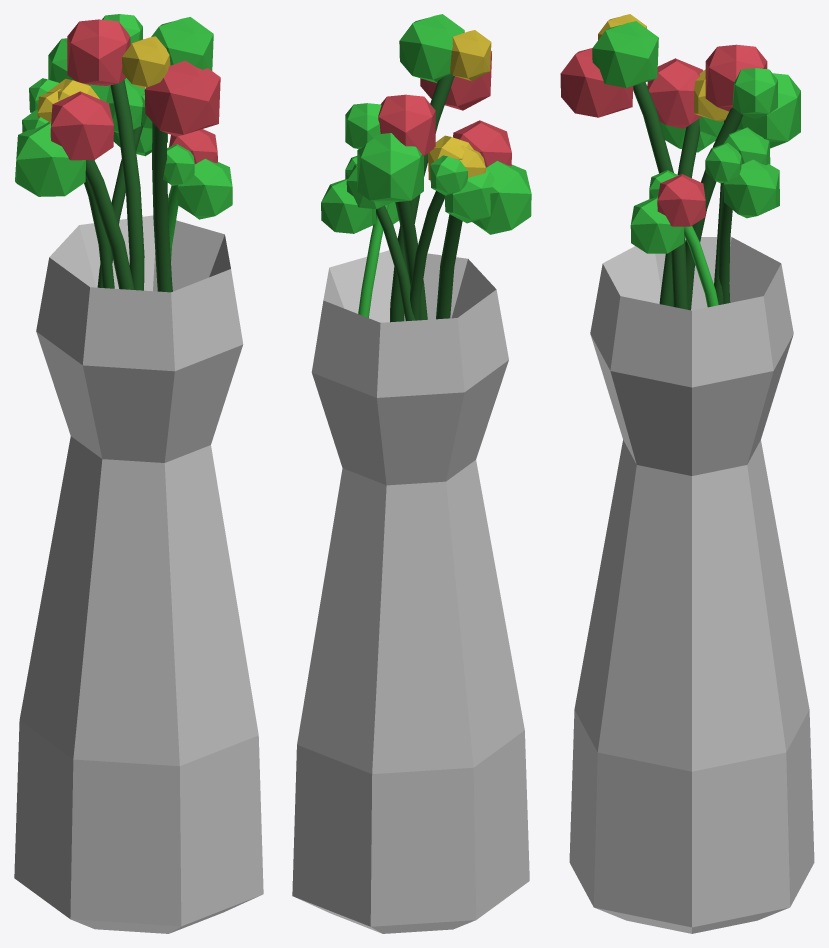
Rendered from Flower.fbx.
3 renders of one model, left to right at view 1: azimuth 30°, elevation 25°; view 2: azimuth 150°, elevation 25°; view 3: azimuth 270°, elevation 25°, orthographic. The views are drawn at different scales.
Parts seen in each view (by area): view 1: FlowerBase; view 2: FlowerBase; view 3: FlowerBase.
Part boxes in pixels (left/top/right/bottom): FlowerBase: left=14, top=14, right=263, bottom=933; FlowerBase: left=292, top=14, right=531, bottom=933; FlowerBase: left=560, top=14, right=814, bottom=933.
Bounding box in the file's own units: 1.01 × 3.63 × 0.9498.
